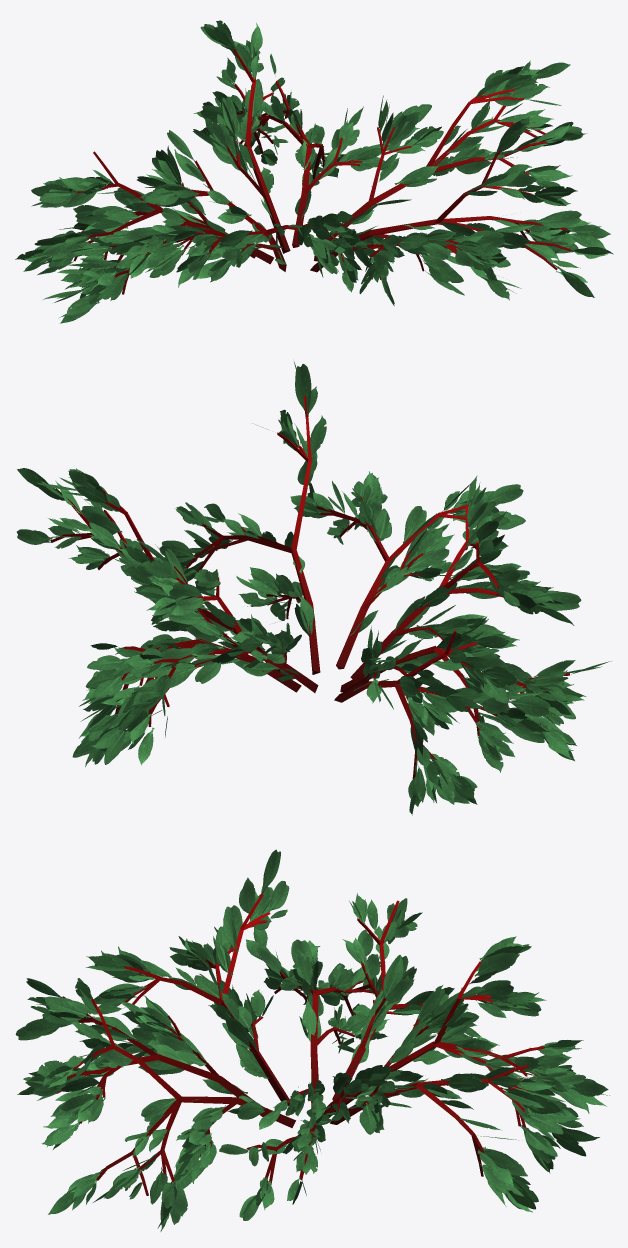
The model's file is salal_understory_v01_LOD1.fbx.
3 views of the same model, one above another, from view 1: azimuth 30°, elevation 25°; view 2: azimuth 150°, elevation 25°; view 3: azimuth 270°, elevation 25° (orthographic). The views are drawn at different scales.
Visible parts, largest first — view 1: salal_understory_v01_LOD1; view 2: salal_understory_v01_LOD1; view 3: salal_understory_v01_LOD1.
Part boxes in pixels (<box>): salal_understory_v01_LOD1: <box>15,20,613,323</box>; salal_understory_v01_LOD1: <box>16,361,611,815</box>; salal_understory_v01_LOD1: <box>15,849,609,1231</box>.
Size of the model in its own units: 177 by 71.2 by 158.
